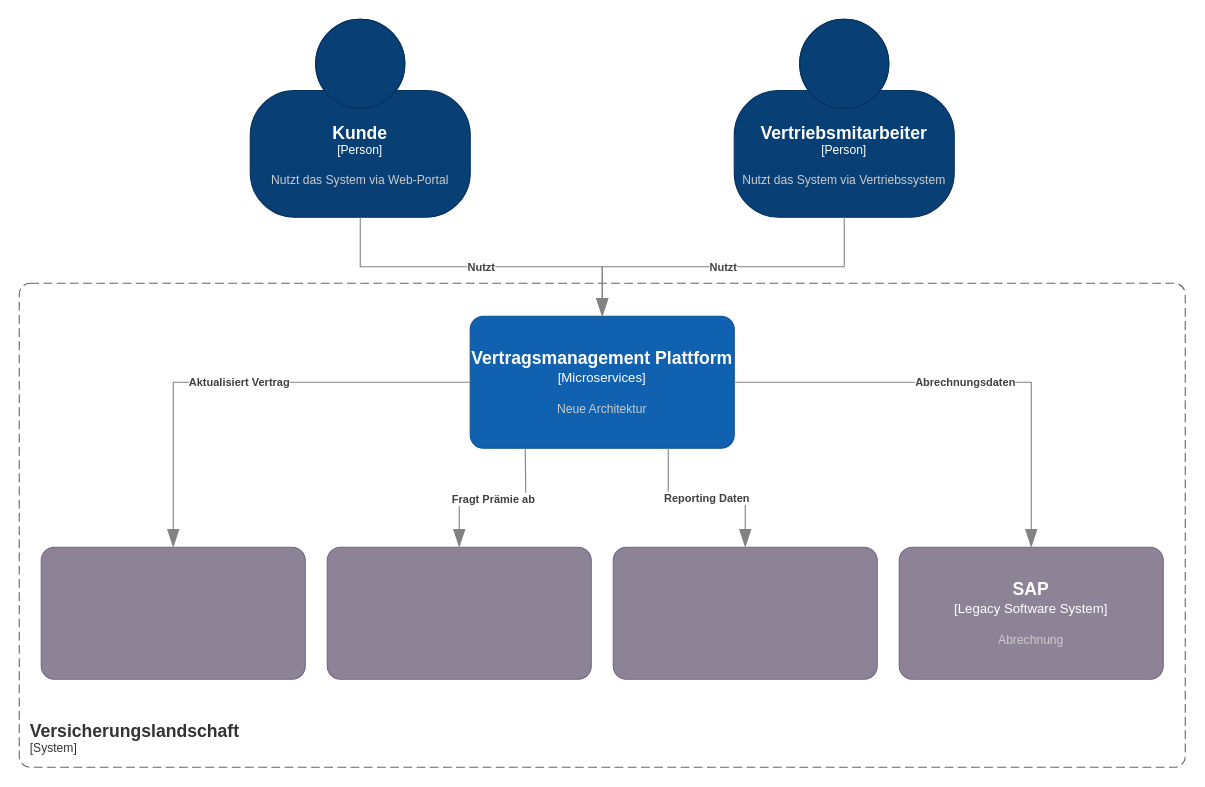
Some shapes in this 1205 by 787 pixel diagram are drawn without their labels. The box of each missing label's shape, as (x1, y1, x2, y2) in pixels:
Bestandssystem [Legacy Software System] Verwaltung Policen & Historie: (40, 546, 305, 679)
Data Warehouse [Legacy Software System] Reporting & BI: (612, 546, 877, 679)
Produktsystem [Legacy Software System] Tarifregeln & Kalkulation: (326, 546, 591, 679)
